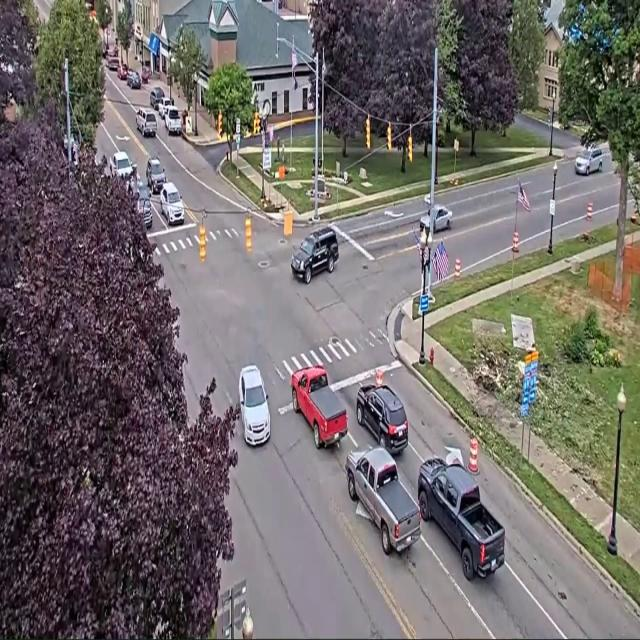car: (356, 384, 408, 454), (291, 227, 338, 283), (238, 364, 270, 446), (128, 175, 152, 229), (160, 183, 184, 225), (420, 204, 452, 232), (575, 146, 603, 175), (146, 158, 166, 193), (109, 152, 135, 177), (136, 109, 156, 136), (164, 107, 181, 135), (157, 96, 173, 119), (150, 87, 164, 110), (127, 71, 141, 88), (107, 55, 119, 71), (141, 66, 150, 83), (118, 64, 128, 79)
traffic signal: (245, 216, 252, 252), (199, 224, 205, 261), (253, 112, 259, 135), (366, 116, 370, 149), (217, 112, 222, 136), (408, 132, 412, 161), (387, 123, 391, 151), (548, 107, 553, 126)
truck: (418, 457, 504, 581), (346, 447, 420, 554), (291, 367, 347, 448)
